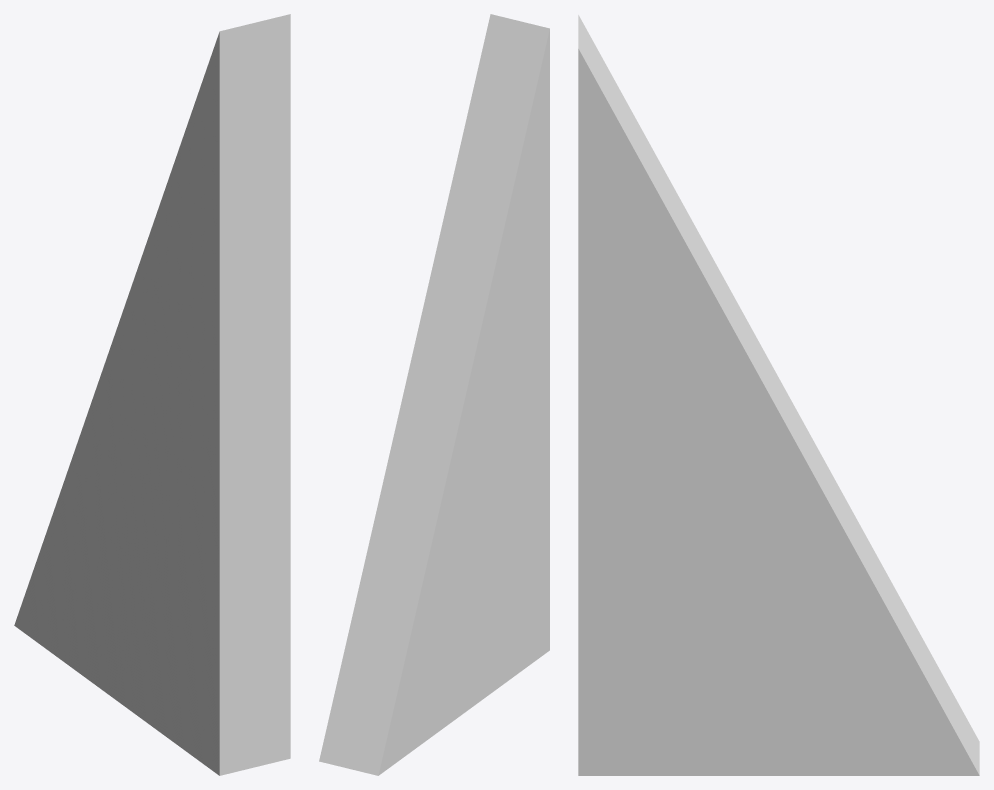
The model's file is BaoPian_FG_TB_SanJiaoL_1X2_on.FBX.
The picture shows the model from 3 angles, left to right: view 1: azimuth 30°, elevation 25°; view 2: azimuth 150°, elevation 25°; view 3: azimuth 270°, elevation 25°; orthographic projection. The views are drawn at different scales.
Visible parts, largest first — view 1: Box002; view 2: Box002; view 3: Box002.
Part boxes in pixels (x1,y1,x2,y2): Box002: (14,14,290,775); Box002: (319,14,549,775); Box002: (578,15,979,775).
Bounding box in the file's own units: 0.2 × 2 × 1.
